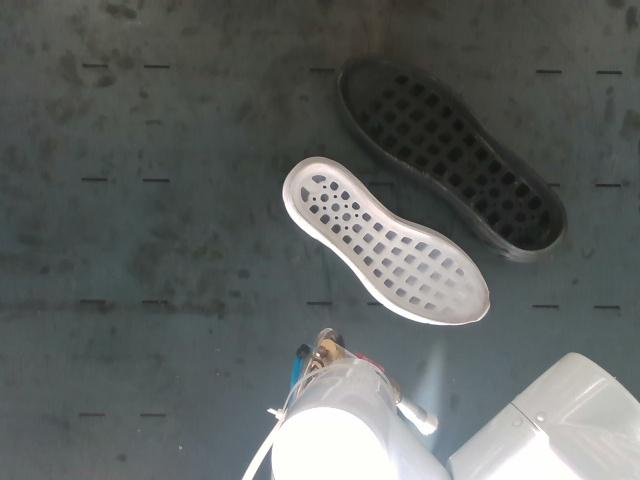shoes: (340, 59, 563, 251), (290, 163, 489, 324)
